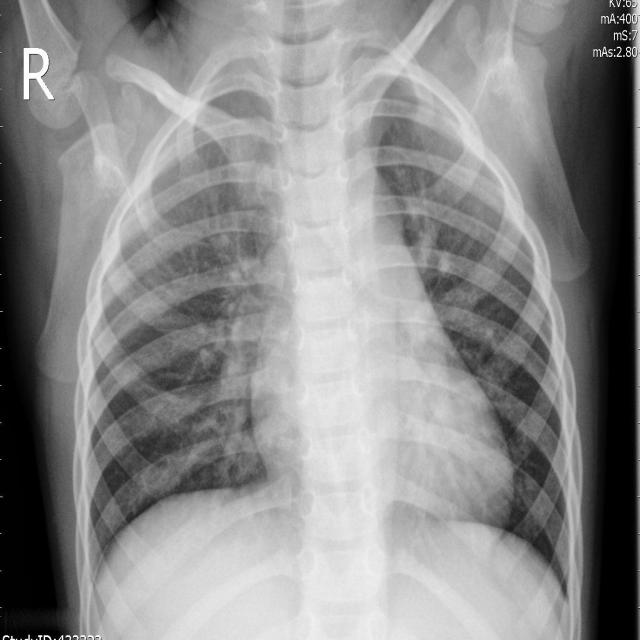low-pneumonia: (395, 60, 517, 228), (194, 241, 275, 474), (208, 77, 289, 230), (405, 165, 474, 339)
